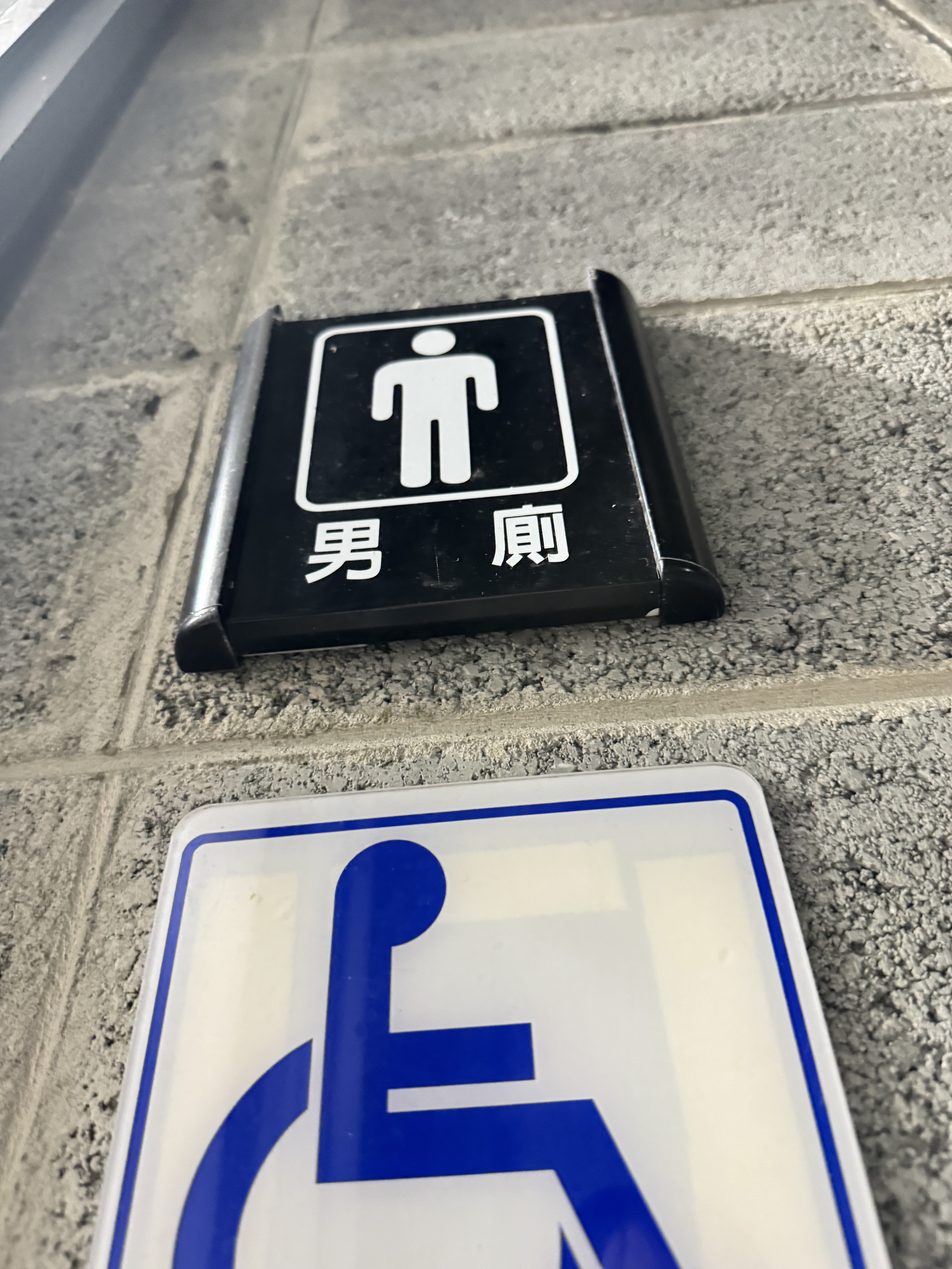toilet_sign: (141, 253, 739, 671), (146, 283, 758, 669)
